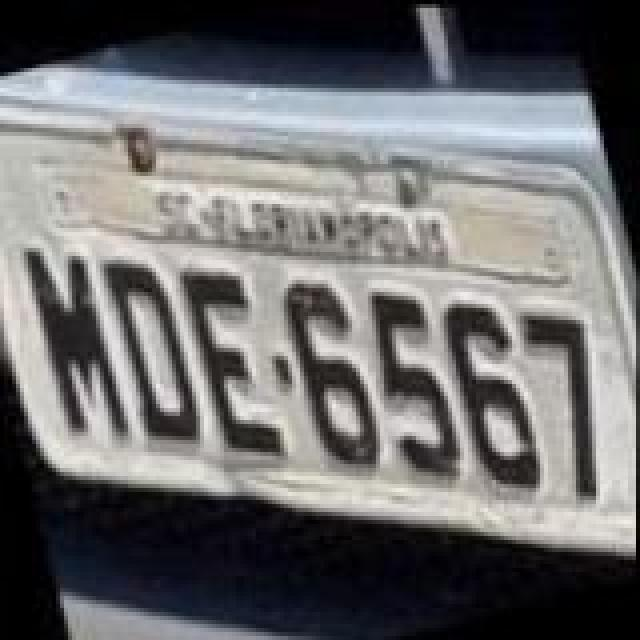5: (356, 272, 468, 488)
6: (438, 284, 554, 500), (276, 264, 388, 480)
7: (516, 290, 628, 506)
D: (94, 242, 206, 454)
E: (174, 252, 290, 472)
M: (16, 226, 132, 446)
